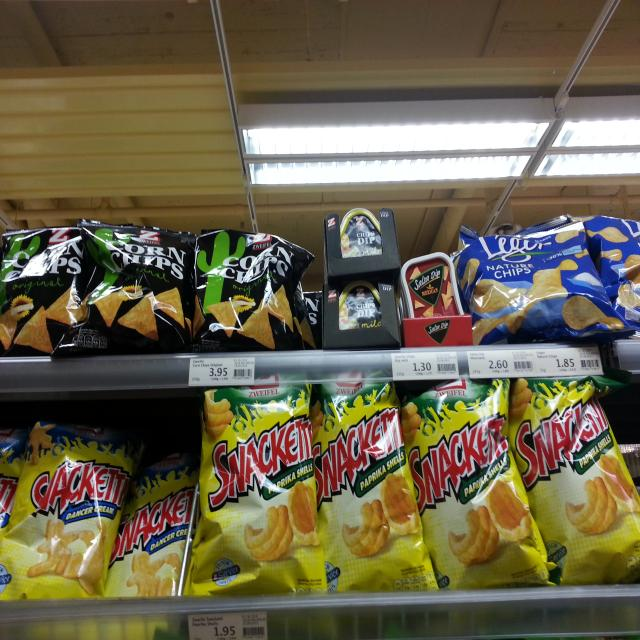Chips: (398, 384, 550, 582), (504, 379, 640, 581), (310, 380, 440, 589), (192, 386, 326, 587), (9, 416, 120, 602), (456, 225, 626, 336), (77, 215, 188, 356), (189, 226, 310, 354), (105, 466, 193, 595), (0, 222, 78, 348), (396, 249, 472, 355), (324, 274, 398, 353), (322, 214, 395, 268)
